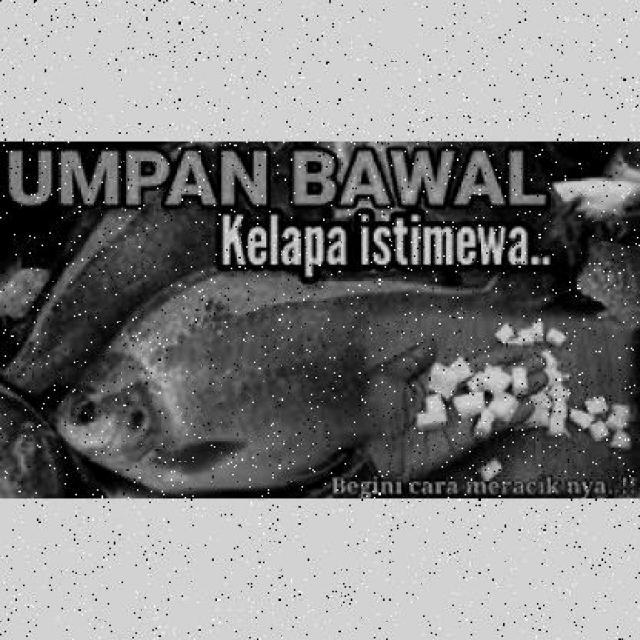ikan-pacu: (59, 267, 501, 490)
